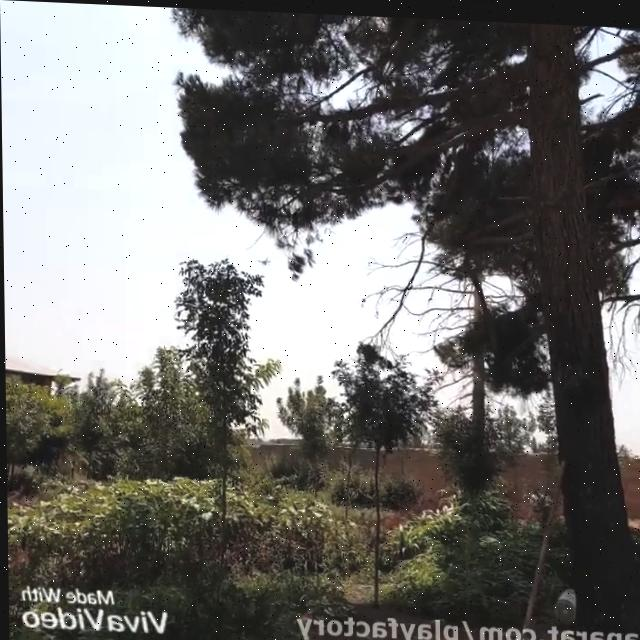drone: (253, 247, 275, 267)
